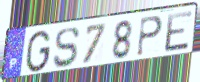7: (82, 21, 107, 65)
8: (111, 19, 134, 61)
E: (164, 10, 194, 54)
G: (24, 29, 52, 74)
P: (135, 15, 164, 58)
S: (52, 26, 81, 70)
